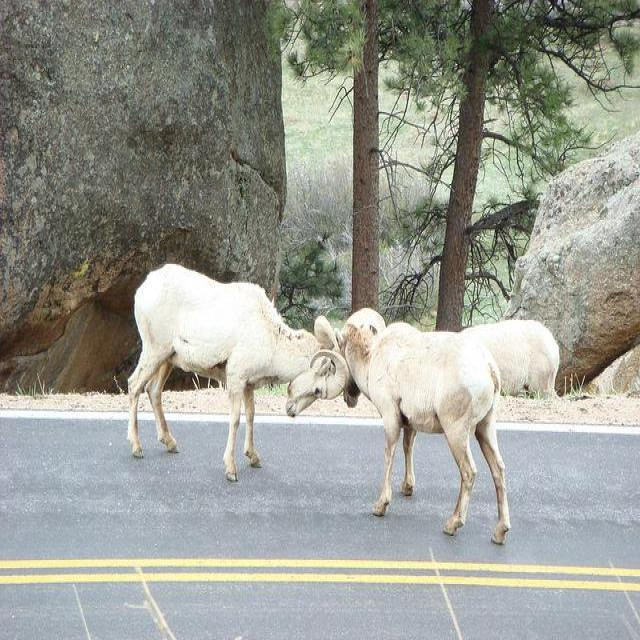Sheep: (128, 264, 350, 481), (314, 307, 512, 544), (458, 321, 562, 396)
